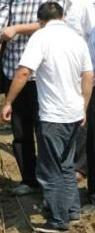boots: (11, 183, 38, 194), (0, 96, 11, 104)
